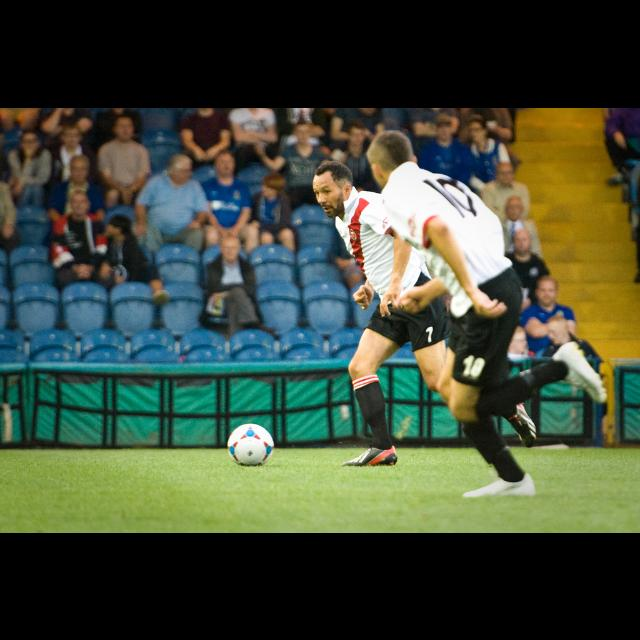Football: (228, 420, 274, 462)
